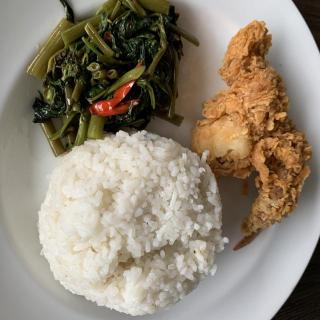Nasi: (41, 130, 224, 317)
